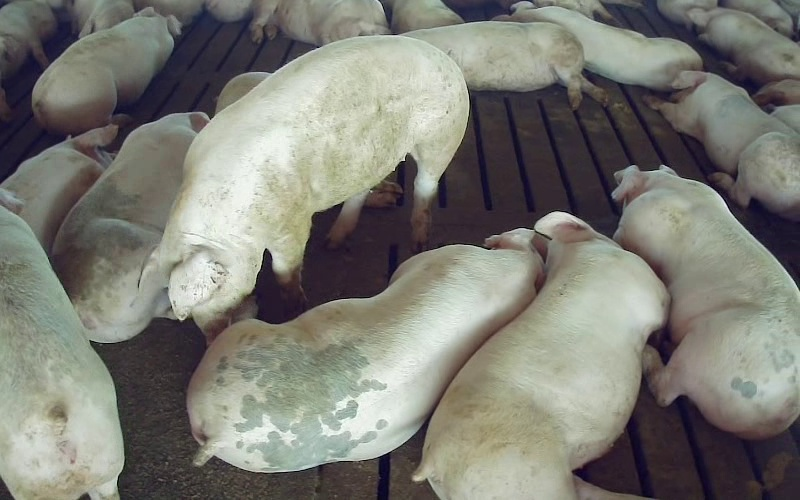pig: (160, 36, 468, 340), (188, 229, 542, 471), (414, 212, 668, 499), (613, 166, 799, 438), (52, 113, 208, 342), (644, 71, 799, 220), (32, 7, 180, 134), (494, 0, 702, 90), (403, 21, 607, 109), (0, 124, 116, 251), (688, 8, 799, 85), (251, 0, 390, 45), (0, 0, 57, 79)
